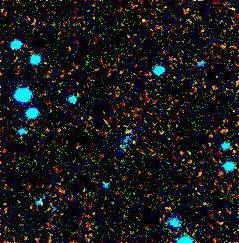star: (114, 117, 144, 147)
